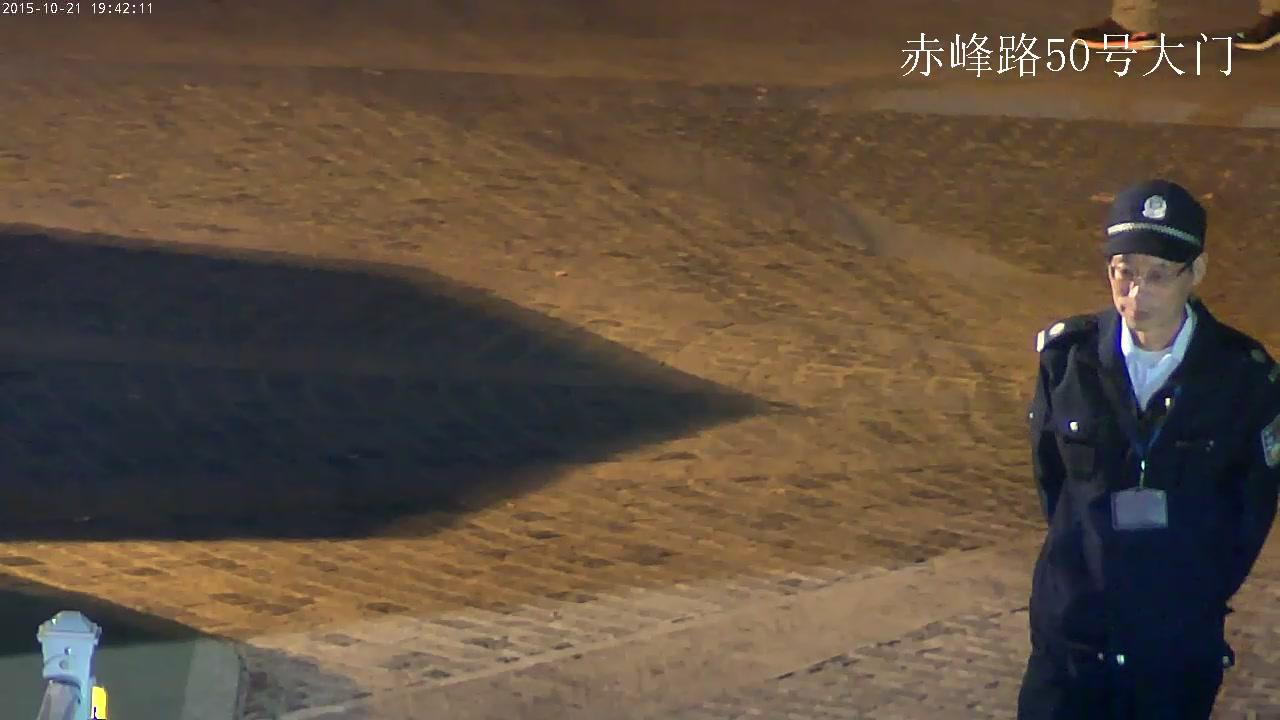person: (1016, 180, 1280, 720)
